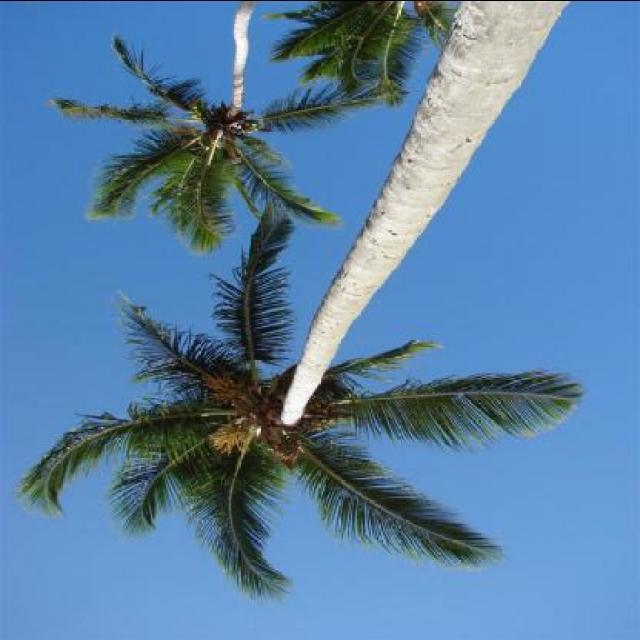Coconut: (302, 396, 338, 432), (186, 97, 209, 121), (238, 116, 262, 134), (198, 134, 212, 152)
